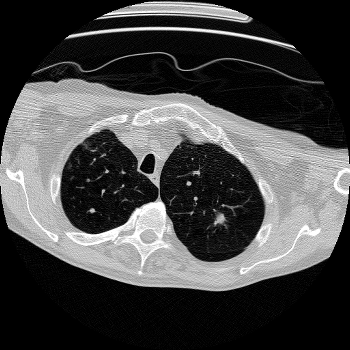nodule: (90, 208, 96, 214)
